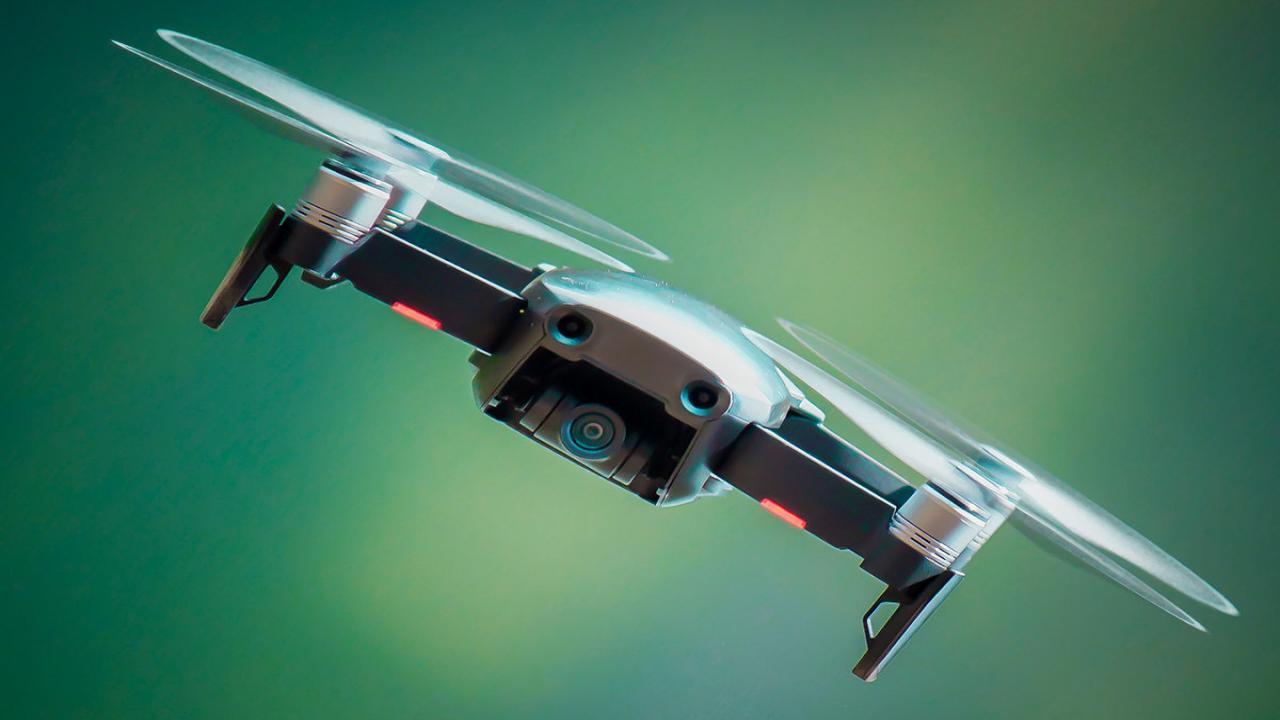Drone: (102, 20, 1251, 692)
